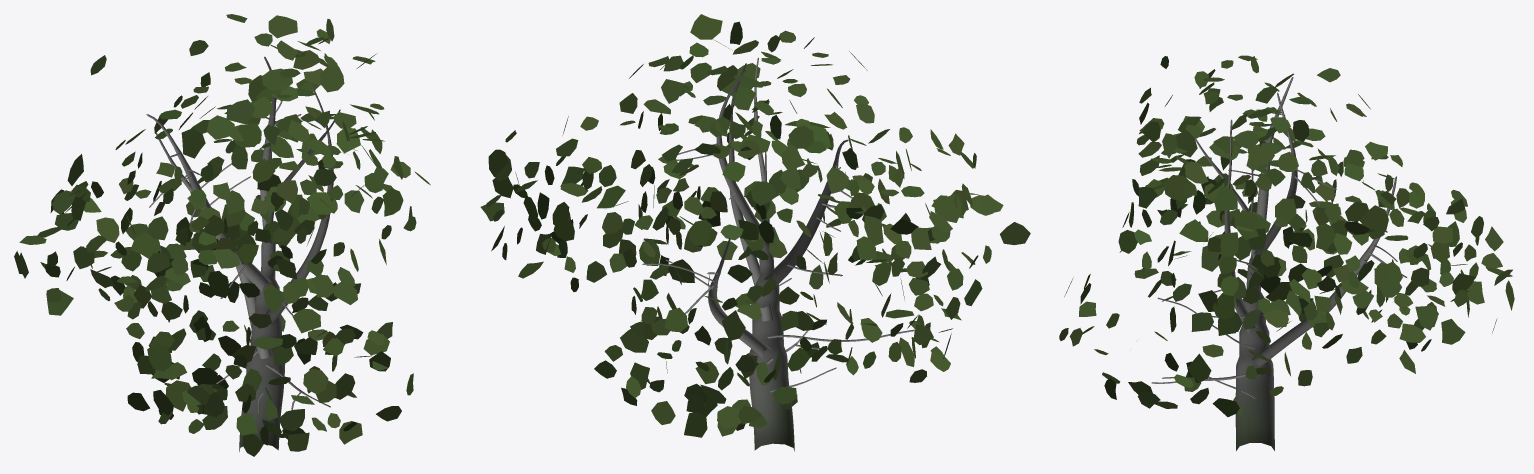
File: SM_TreeFar_beech_3.glb
3 views of the same model, side by side, from view 1: azimuth 30°, elevation 25°; view 2: azimuth 150°, elevation 25°; view 3: azimuth 270°, elevation 25° (orthographic). The views are drawn at different scales.
Parts seen in each view (by area): view 1: SM_TreeFar_beech_3; view 2: SM_TreeFar_beech_3; view 3: SM_TreeFar_beech_3.
Part boxes in pixels (bbox=[...]): SM_TreeFar_beech_3: bbox=[14, 14, 430, 456]; SM_TreeFar_beech_3: bbox=[480, 14, 1030, 451]; SM_TreeFar_beech_3: bbox=[1059, 55, 1514, 450].
Size of the model in its own units: 26.21 by 23.23 by 24.47.
